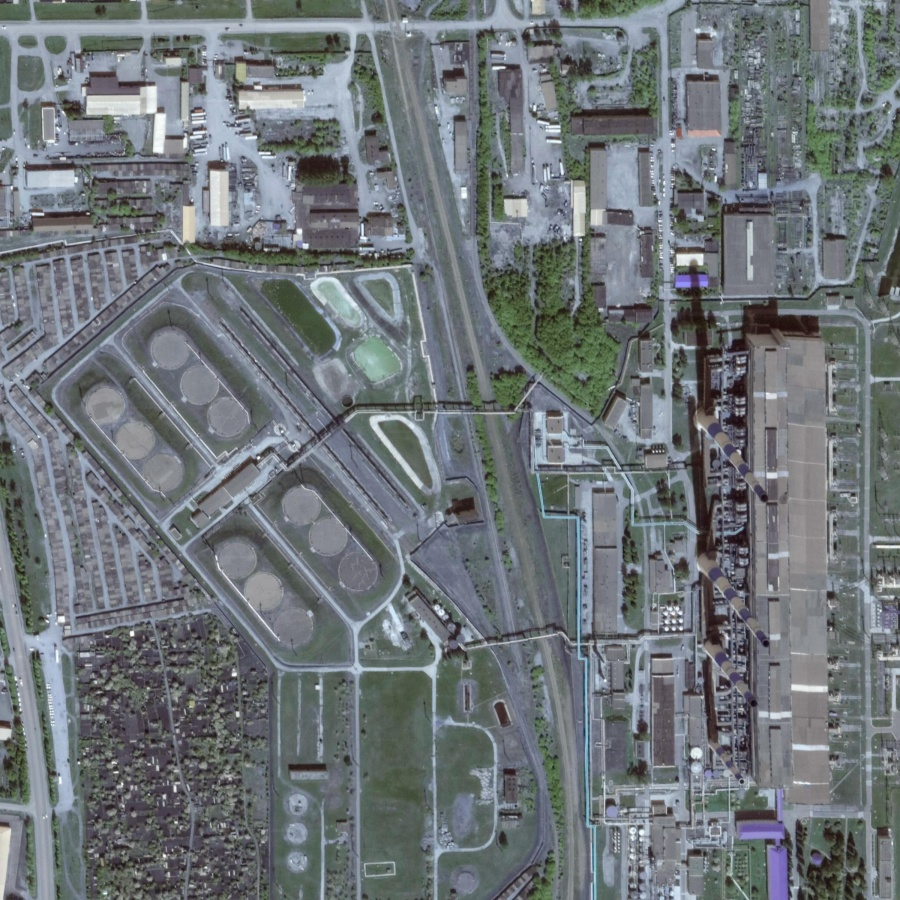PowerPlant: (67, 290, 400, 656), (654, 325, 813, 794)
